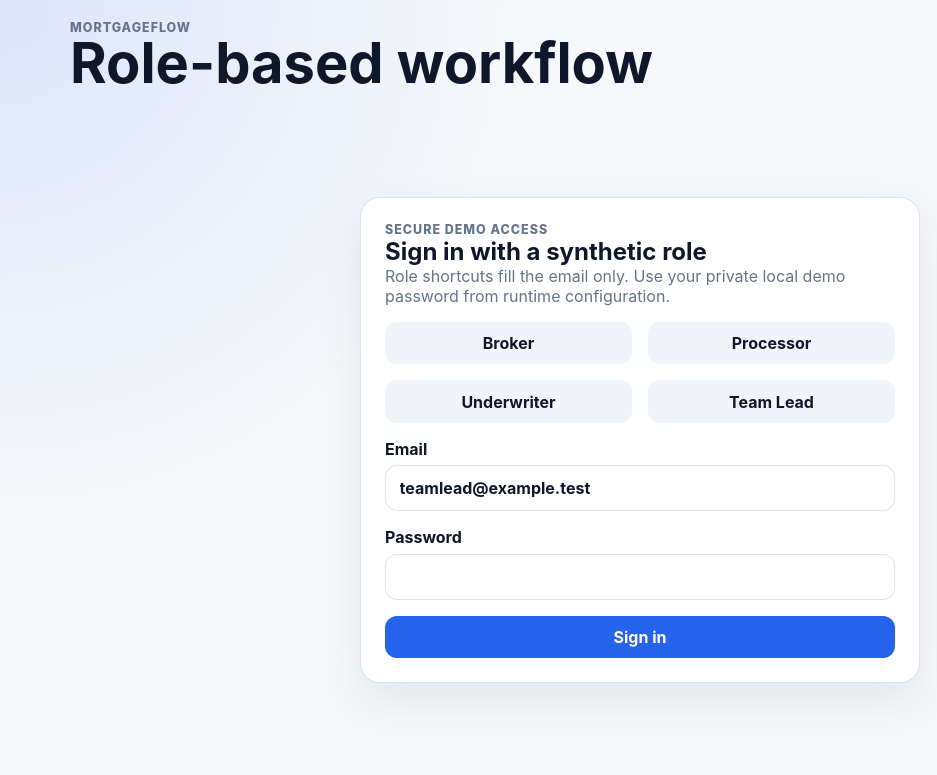
Scenario: LoginPage › shows a safe authentication failure
In the password field labelled "Password": (640, 576) top-left (385, 554), bottom-right (895, 600), type "wrong-password"
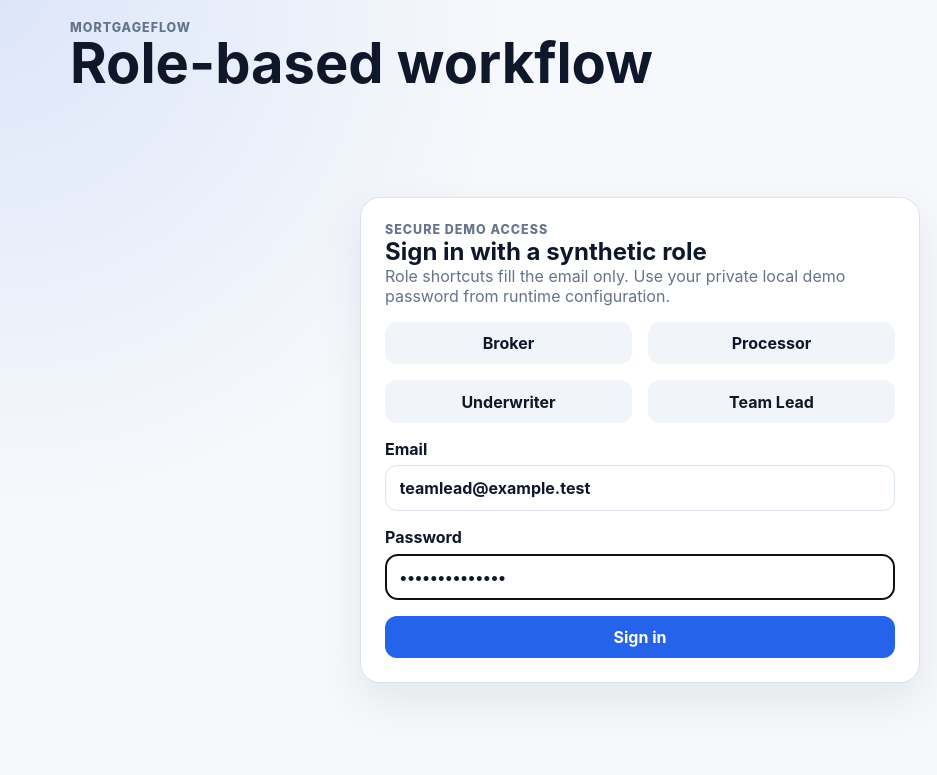
Click the button "Sign in": (640, 637) top-left (385, 616), bottom-right (895, 658)
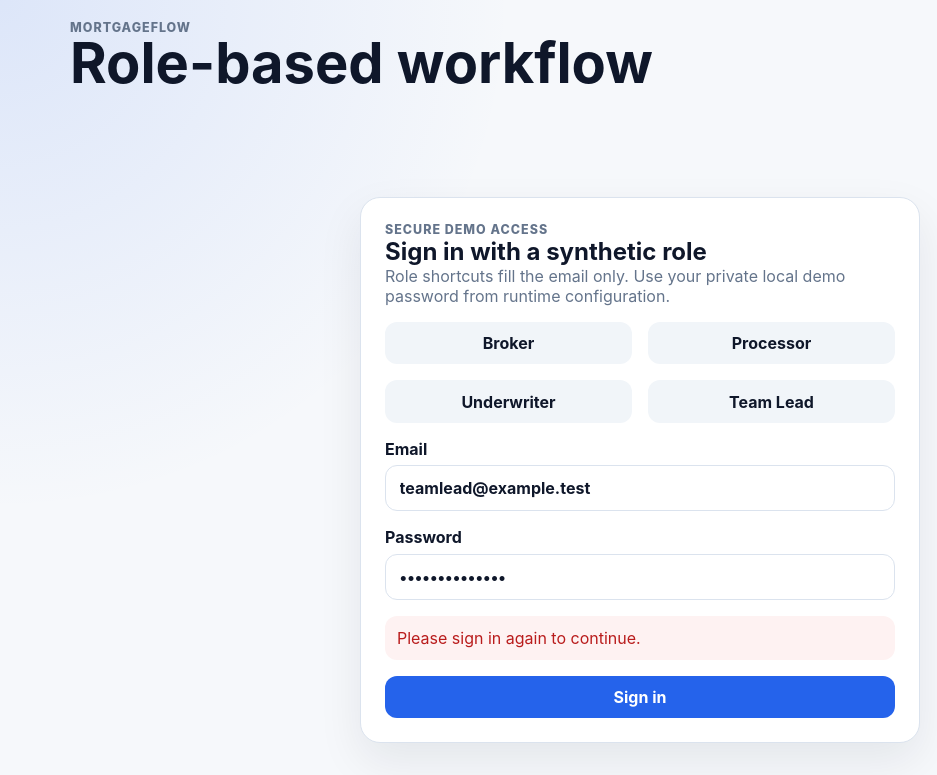
Check: the text "Please sign in again to continue." is shown, box top-left (385, 616), bottom-right (895, 660)
